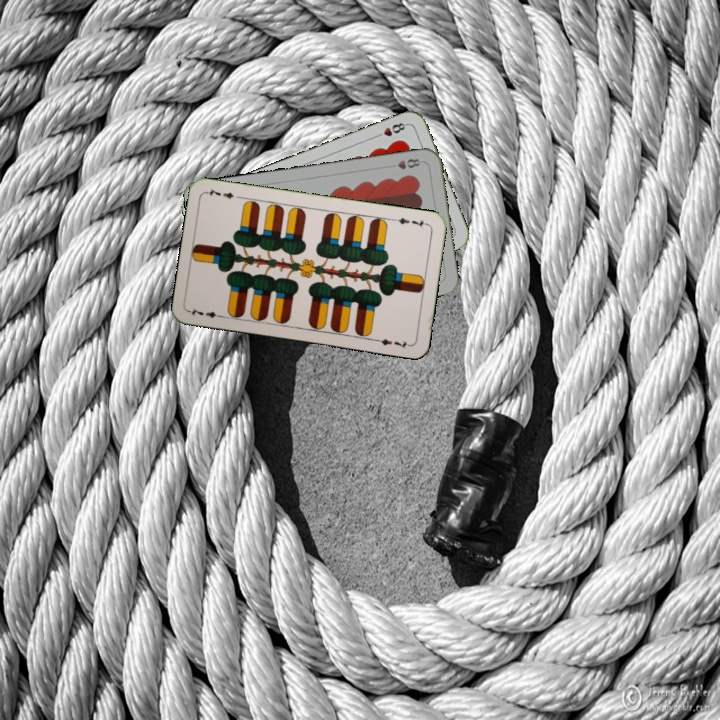E7: (390, 213, 431, 230), (186, 304, 226, 321)
H8: (371, 118, 410, 140), (394, 155, 423, 172)
